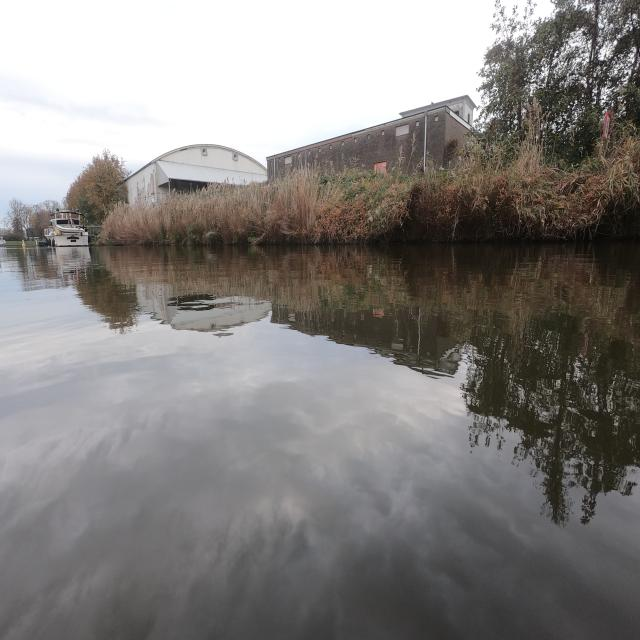boat: (42, 213, 88, 247)
reed: (100, 129, 640, 245)
tree: (477, 1, 611, 161)
water: (1, 238, 639, 639)
